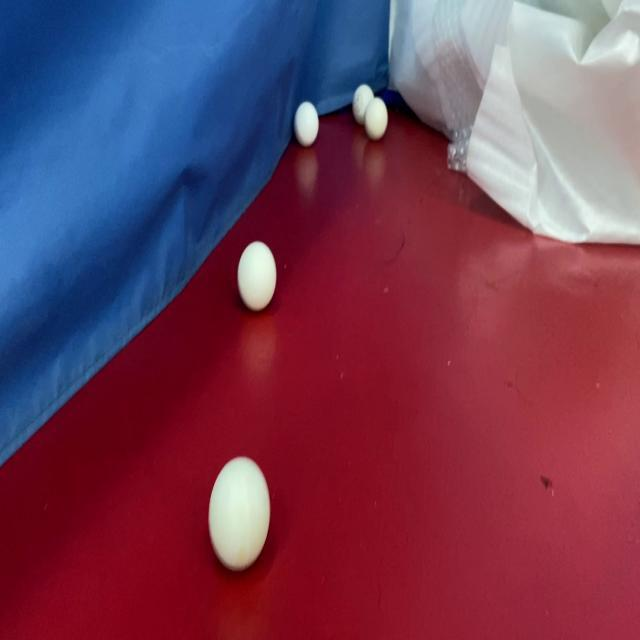ping-pong-ball: (206, 452, 274, 574), (235, 238, 279, 312), (294, 100, 320, 150), (363, 96, 389, 142), (352, 82, 376, 128)
